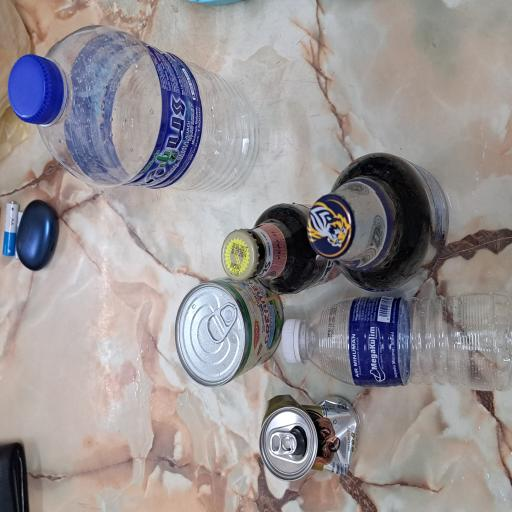battery: (192, 4, 233, 26)
can: (94, 231, 178, 379), (24, 346, 89, 481)
glass bottle: (162, 294, 232, 457), (165, 408, 269, 512)
plastic bottle: (239, 52, 365, 346), (92, 401, 165, 512)
plastic bottle cap: (290, 11, 342, 86), (111, 376, 145, 403)
pop tab: (127, 274, 157, 316), (43, 359, 61, 396)
